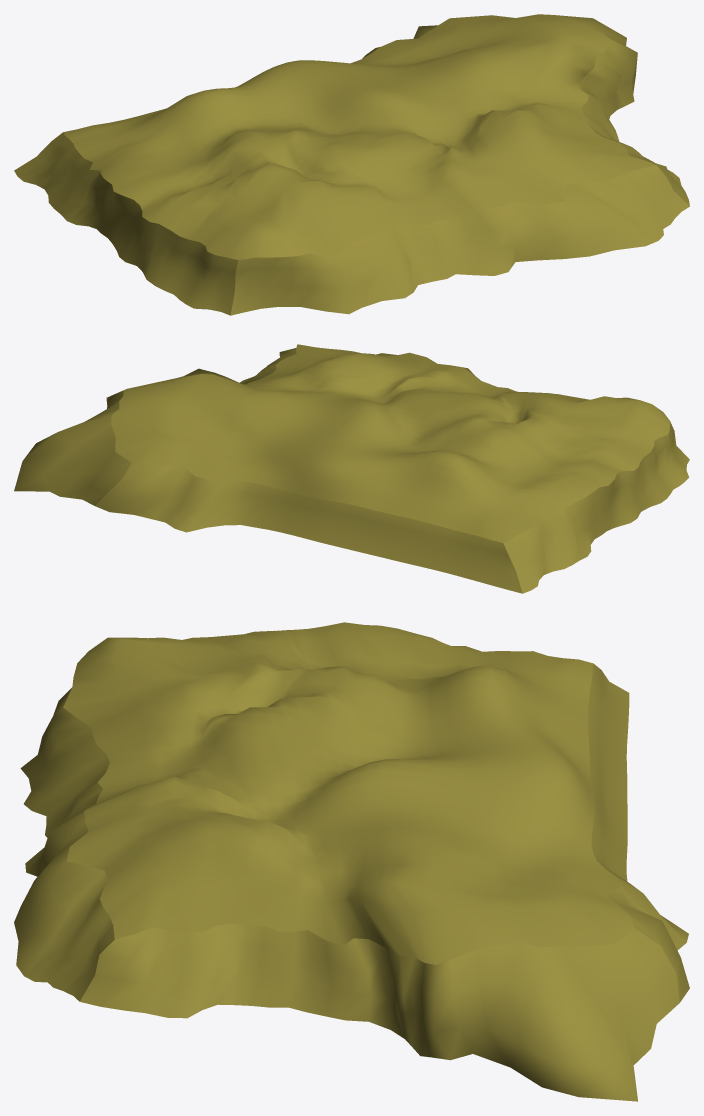
The model's file is fol_rock_04.fbx.
3 renders of one model, top to bottom at view 1: azimuth 30°, elevation 25°; view 2: azimuth 150°, elevation 25°; view 3: azimuth 270°, elevation 25°, orthographic. The views are drawn at different scales.
Parts seen in each view (by area): view 1: fol_rock_04; view 2: fol_rock_04; view 3: fol_rock_04.
Part boxes in pixels (x1,y1,x2,y2): fol_rock_04: (14,14,689,315); fol_rock_04: (14,344,689,593); fol_rock_04: (14,622,689,1101).
Bounding box in the file's own units: 25.26 × 4.27 × 18.37.
